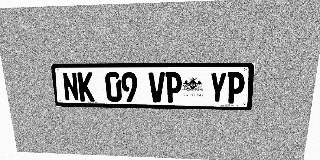0: (105, 72, 122, 102)
9: (121, 72, 138, 102)
K: (77, 72, 95, 102)
N: (62, 72, 79, 101)
P: (226, 72, 245, 104), (165, 72, 182, 103)
V: (148, 72, 165, 102)
Y: (209, 72, 227, 103)
